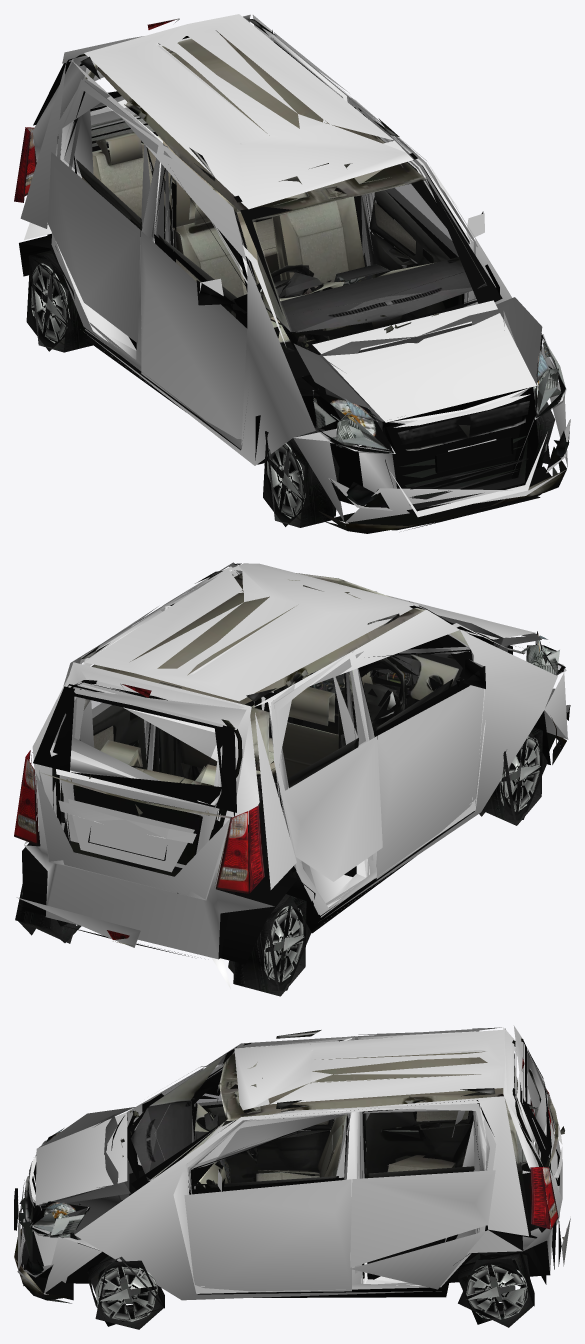
File: wagonr_lod.glb
3 views of the same model, one above another, from view 1: azimuth 30°, elevation 25°; view 2: azimuth 150°, elevation 25°; view 3: azimuth 270°, elevation 25° (orthographic). The views are drawn at different scales.
Parts seen in each view (by area): view 1: Object_7, Object_28, Object_6, Object_12, Object_13, Object_16, Object_15, Object_41, Object_34, Object_8, Object_40, Object_17 (+5 smaller); view 2: Object_7, Object_28, Object_6, Object_13, Object_41, Object_12, Object_21, Object_40, Object_34, Object_15, Object_11, Object_16 (+3 smaller); view 3: Object_7, Object_28, Object_34, Object_13, Object_6, Object_41, Object_40, Object_15, Object_16, Object_8, Object_12, Object_21 (+3 smaller).
Part boxes in pixels (x1,y1,x2,y2): Object_7: (20,14,570,522); Object_28: (64,103,566,453); Object_6: (19,30,563,489); Object_12: (92,132,402,342); Object_13: (56,30,486,396); Object_16: (76,18,569,533); Object_15: (266,257,486,379); Object_41: (26,250,554,527); Object_34: (76,159,468,320); Object_8: (294,297,542,450); Object_40: (28,263,546,518); Object_17: (312,334,565,453); Object_7: (16,562,570,959); Object_28: (52,591,566,801); Object_6: (22,563,564,964); Object_13: (52,573,468,894); Object_41: (15,727,547,996); Object_12: (100,687,338,853); Object_21: (14,750,264,893); Object_40: (22,736,540,982); Object_34: (79,679,462,805); Object_15: (254,653,458,737); Object_11: (342,658,415,731); Object_16: (39,571,569,957); Object_7: (17,1025,570,1300); Object_28: (29,1050,551,1237); Object_34: (190,1098,474,1278); Object_13: (129,1040,552,1275); Object_6: (14,1040,559,1297); Object_41: (87,1251,534,1329); Object_40: (95,1258,527,1321); Object_15: (130,1100,231,1192); Object_16: (14,1028,564,1303); Object_8: (38,1107,134,1239); Object_12: (256,1114,467,1248); Object_21: (529,1089,558,1229).
Size of the model in its own units: 1.96 by 1.89 by 4.22.
Materials: 19 (14 with a texture image).
